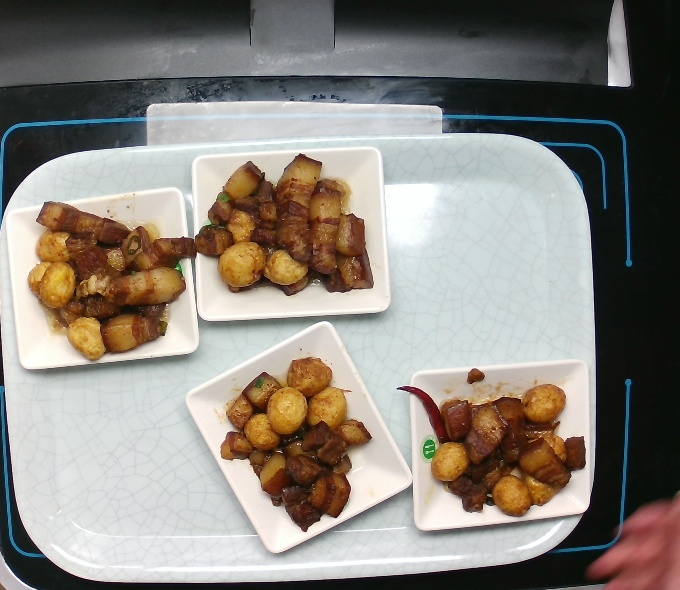wcq-HongShaoRouChaoAnChunDan: (393, 348, 590, 520), (210, 343, 371, 540), (28, 188, 203, 362), (195, 147, 386, 298)
